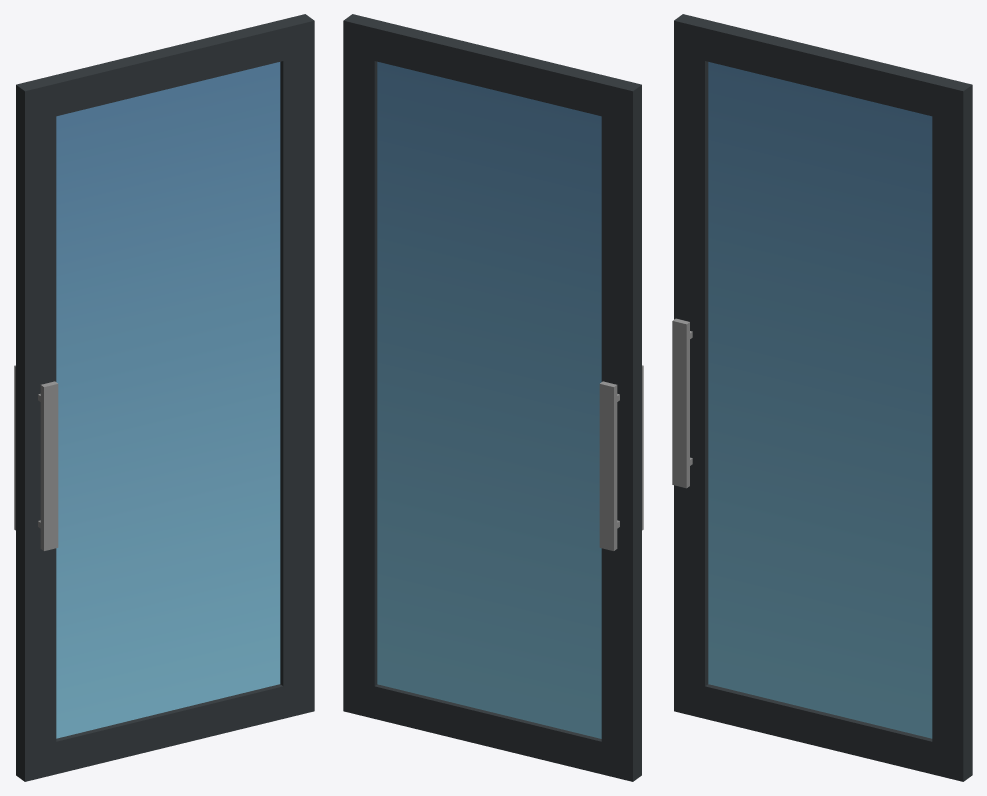
Rendered from SM_Buildings_Police_01_Door_R_01.fbx.
The picture shows the model from 3 angles, left to right: view 1: azimuth 30°, elevation 25°; view 2: azimuth 150°, elevation 25°; view 3: azimuth 330°, elevation 25°; orthographic projection.
Parts seen in each view (by area): view 1: SM_Buildings_Police_01_Door_R_01; view 2: SM_Buildings_Police_01_Door_R_01; view 3: SM_Buildings_Police_01_Door_R_01.
Boxes of the visible parts, x1=… form: SM_Buildings_Police_01_Door_R_01: x1=14, y1=14, x2=314, y2=781; SM_Buildings_Police_01_Door_R_01: x1=343, y1=14, x2=643, y2=781; SM_Buildings_Police_01_Door_R_01: x1=672, y1=14, x2=972, y2=781.
Bounding box in the file's own units: 1.26 × 2.86 × 0.2224.
